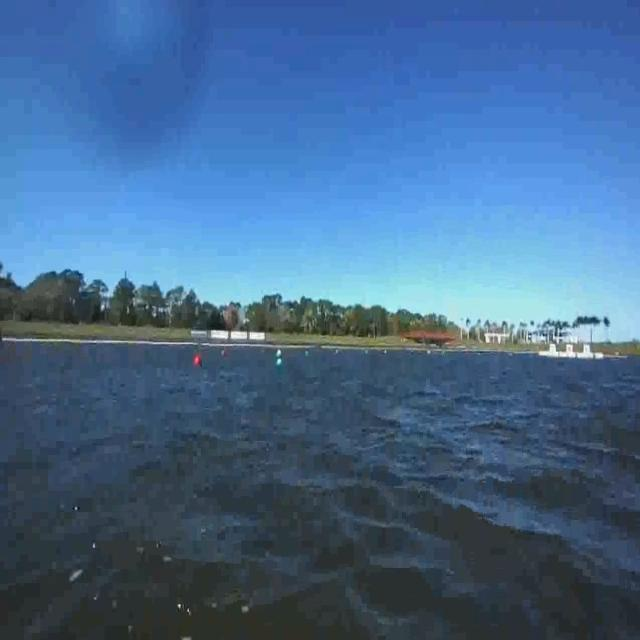red-buoy: (196, 353, 203, 369)
